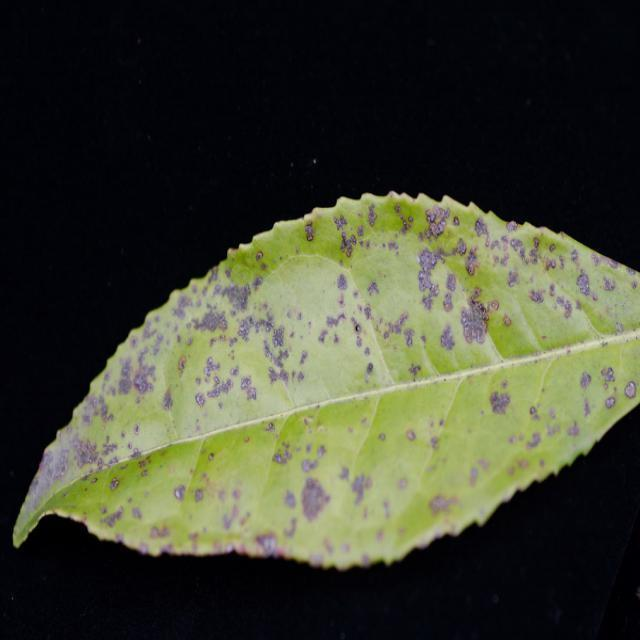Tea red rust: (126, 200, 604, 564)
